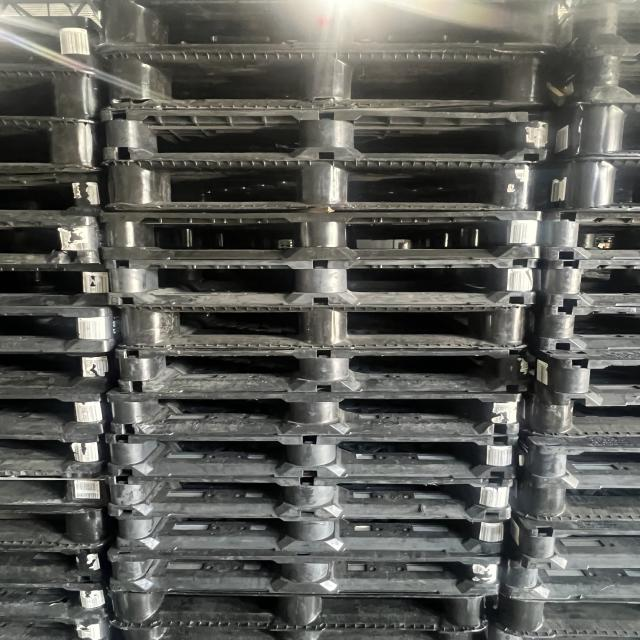igps: (97, 41, 553, 125), (94, 102, 556, 169), (95, 150, 544, 218), (96, 206, 550, 268), (101, 254, 543, 315), (86, 1, 572, 56), (97, 424, 524, 485), (101, 385, 527, 444), (108, 342, 536, 400), (100, 466, 517, 525), (111, 299, 537, 353), (101, 544, 509, 600), (101, 578, 491, 632), (110, 512, 510, 560), (102, 612, 493, 640), (493, 506, 640, 574), (530, 36, 640, 112), (506, 464, 640, 526), (513, 428, 640, 492), (519, 152, 640, 217), (0, 113, 121, 178), (495, 550, 640, 604), (489, 589, 640, 640), (0, 10, 121, 71), (518, 351, 640, 411), (532, 95, 640, 160), (520, 381, 640, 439), (0, 64, 115, 124), (529, 202, 640, 264), (0, 210, 117, 268), (0, 163, 119, 218), (524, 255, 640, 311), (518, 301, 640, 354), (0, 346, 125, 397), (0, 258, 118, 312), (0, 304, 132, 352), (0, 384, 117, 438), (0, 505, 125, 555), (0, 429, 116, 481), (0, 541, 117, 589), (0, 469, 117, 511), (0, 578, 122, 618), (557, 0, 640, 47), (0, 608, 114, 640)
